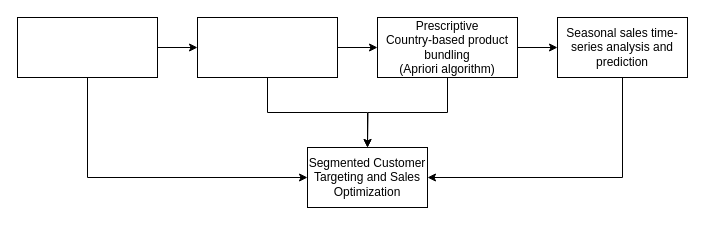
The diagram is 705 pixels wide and 225 high, and some of its shapes have lost their labels. Each missing label, with the centre of its shape:
Descriptive datapoints (Central Limit theorem): pixel 87 47
Diagnostic Customer Categorization (RFM analysis): pixel 267 47
